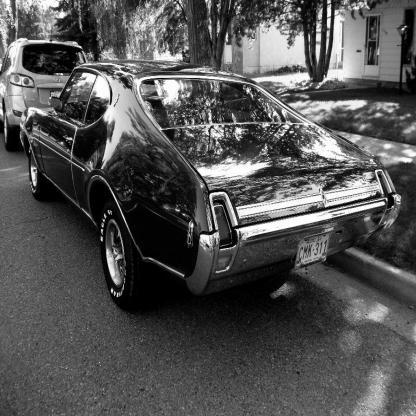car: (20, 55, 412, 326)
